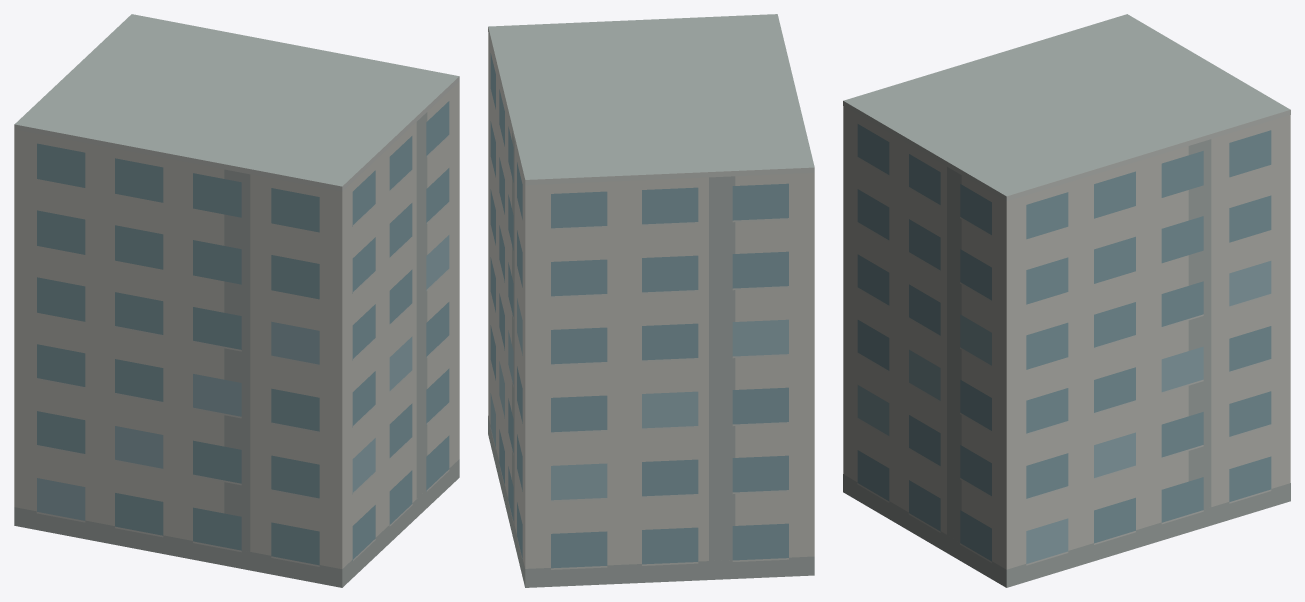
The model's file is residential-da824380-a1f4-4ade-991a-6241e20aee4d.glb.
The picture shows the model from 3 angles, left to right: view 1: azimuth 30°, elevation 25°; view 2: azimuth 150°, elevation 25°; view 3: azimuth 270°, elevation 25°; orthographic projection. The views are drawn at different scales.
Parts seen in each view (by area): view 1: residential-da824380-a1f4-4ade-991a-6241e20aee4d.tmp; view 2: residential-da824380-a1f4-4ade-991a-6241e20aee4d.tmp; view 3: residential-da824380-a1f4-4ade-991a-6241e20aee4d.tmp.
Part boxes in pixels (x1,y1,x2,y2): residential-da824380-a1f4-4ade-991a-6241e20aee4d.tmp: (14, 14, 459, 587); residential-da824380-a1f4-4ade-991a-6241e20aee4d.tmp: (488, 14, 814, 587); residential-da824380-a1f4-4ade-991a-6241e20aee4d.tmp: (843, 14, 1290, 587).
Bounding box in the file's own units: 18.59 × 18.6 × 19.28.
